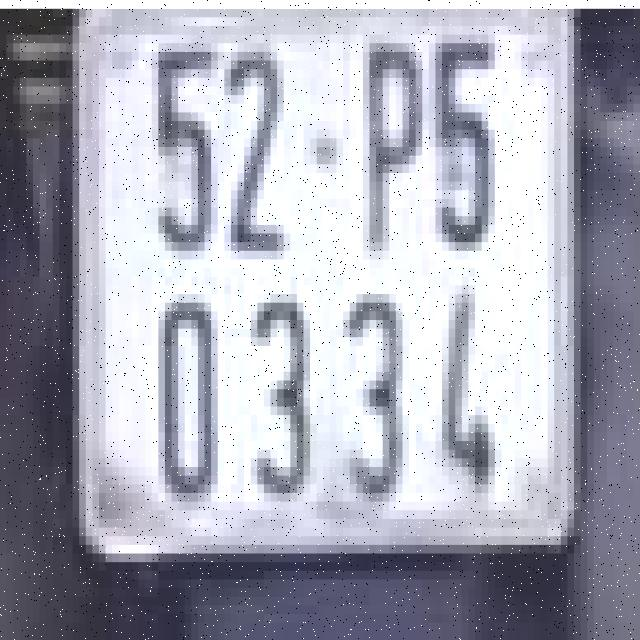0: (148, 286, 221, 510)
2: (221, 35, 294, 268)
3: (327, 286, 419, 510), (244, 281, 317, 515)
4: (436, 272, 508, 498)
5: (429, 22, 508, 255), (148, 39, 221, 264)
P: (356, 26, 429, 268)
